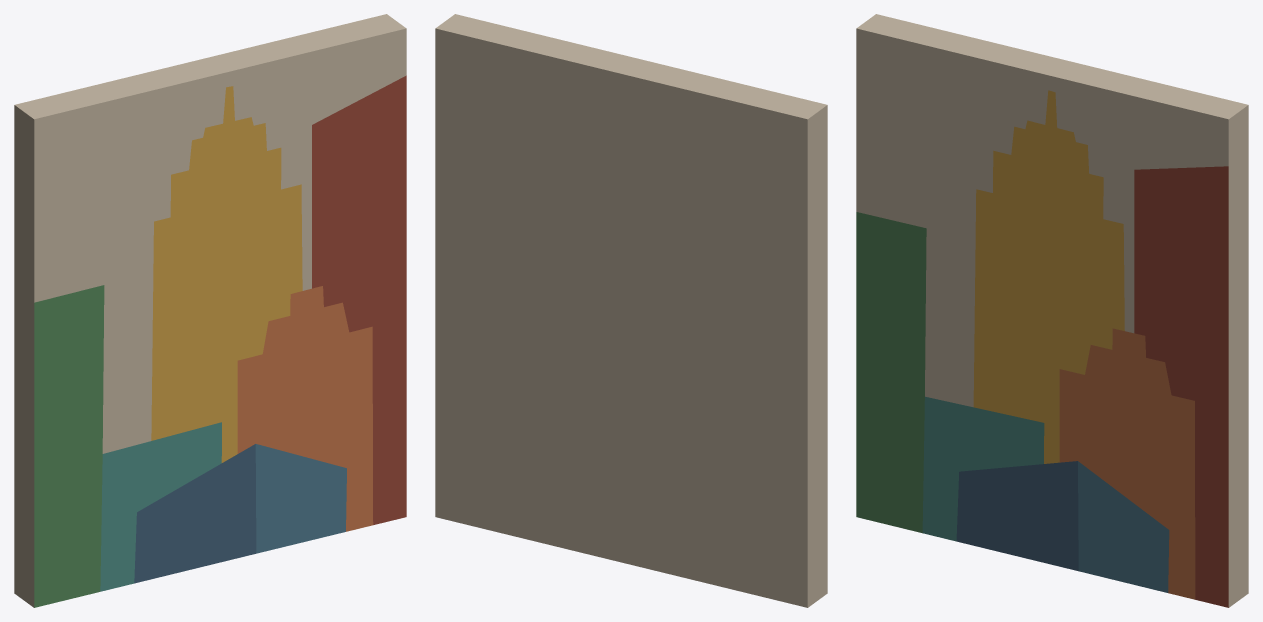
Rendered from SM_Prop_Art_08.fbx.
3 views of the same model, side by side, from view 1: azimuth 30°, elevation 25°; view 2: azimuth 150°, elevation 25°; view 3: azimuth 330°, elevation 25° (orthographic).
Parts seen in each view (by area): view 1: SM_Prop_Art_08; view 2: SM_Prop_Art_08; view 3: SM_Prop_Art_08.
Part boxes in pixels (x1=…): SM_Prop_Art_08: x1=14, y1=14, x2=406, y2=607; SM_Prop_Art_08: x1=435, y1=14, x2=827, y2=607; SM_Prop_Art_08: x1=856, y1=14, x2=1248, y2=607.
Bounding box in the file's own units: 50 × 62.69 × 4.6.
